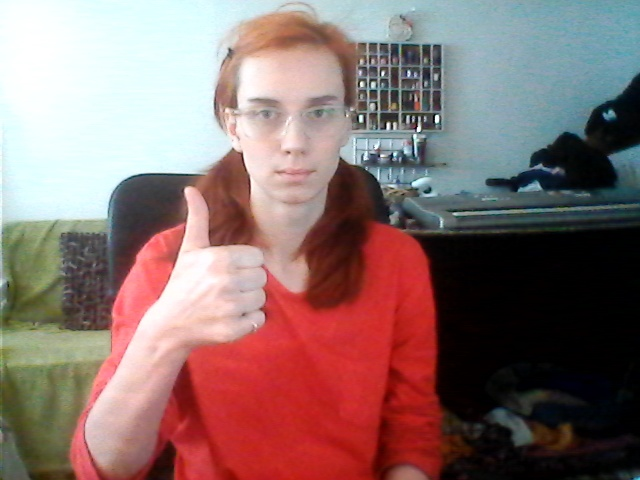jeden: (151, 186, 271, 353)
